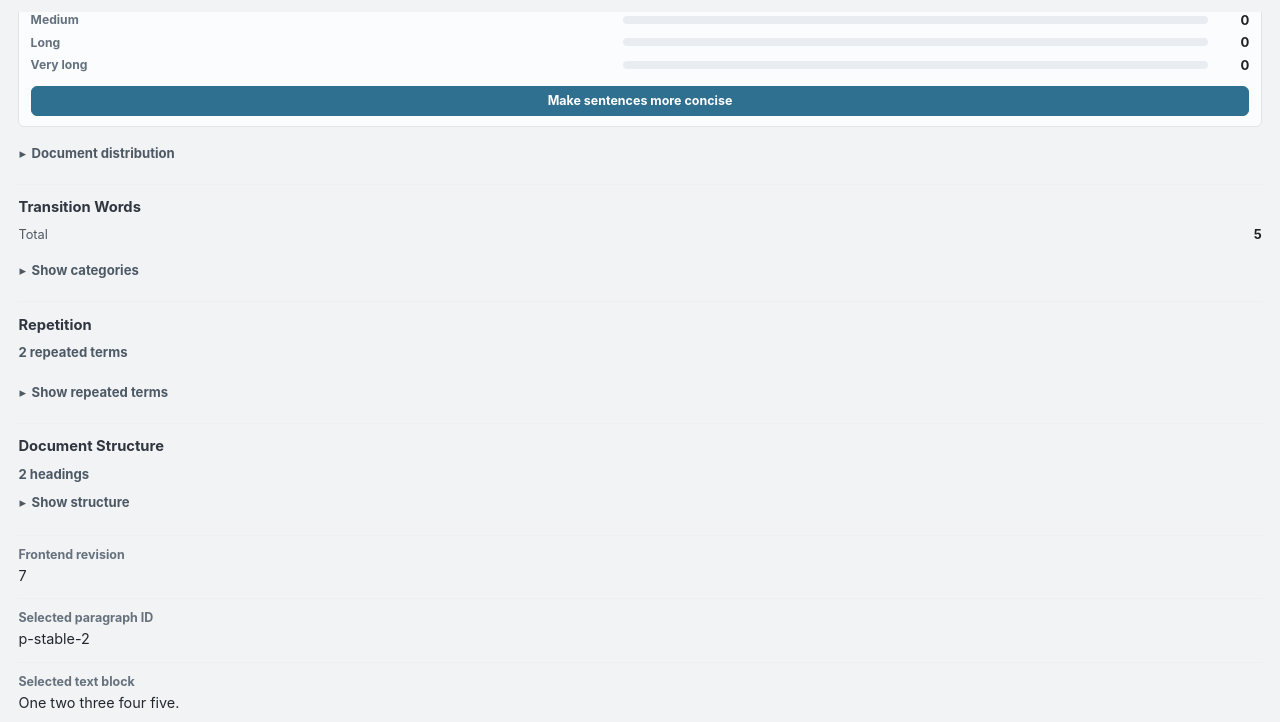
Test: WritingAnalyticsPanel paragraph length focus › reports when sentence revision is available in the AI panel without rendering another preview on the left
The width and height of the screenshot is (1280, 722).
(page scrolled)
Click the button "Make sentences more concise". click: click(640, 101)
box: [31,86,1249,116]
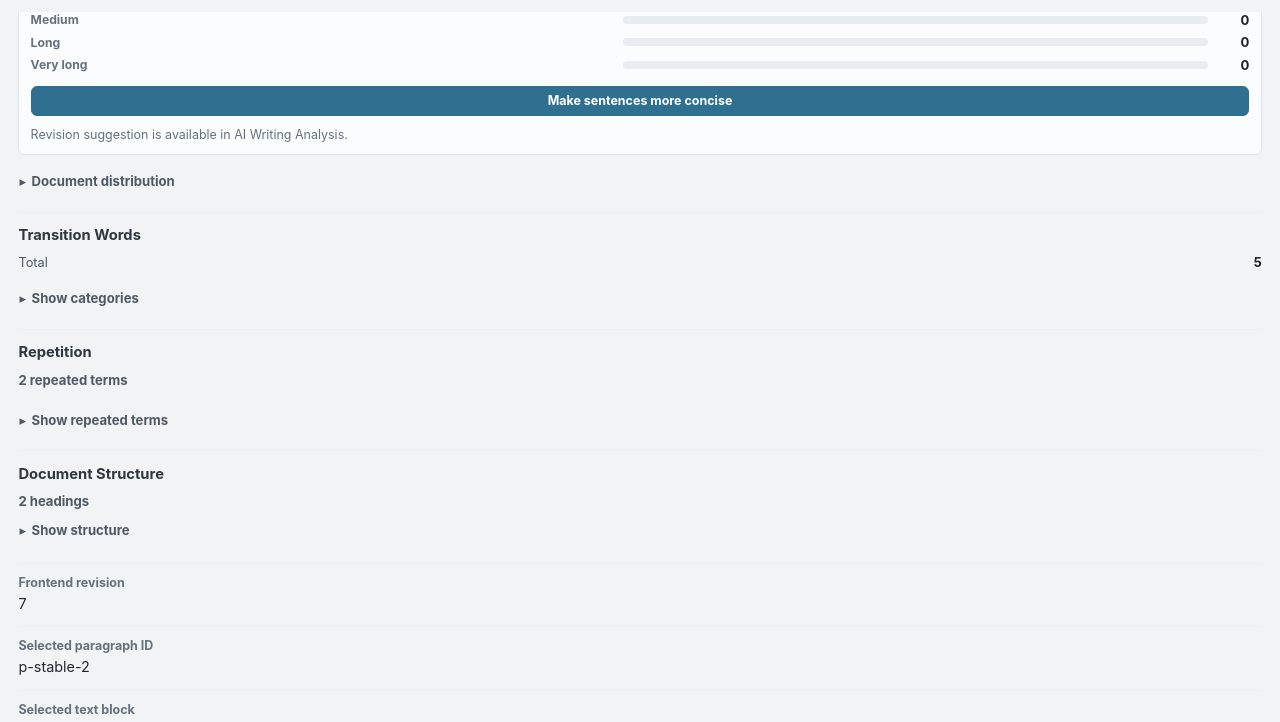
Now the text "Revision suggestion is available in AI Writing Analysis." is shown, box [31,127,348,142]
